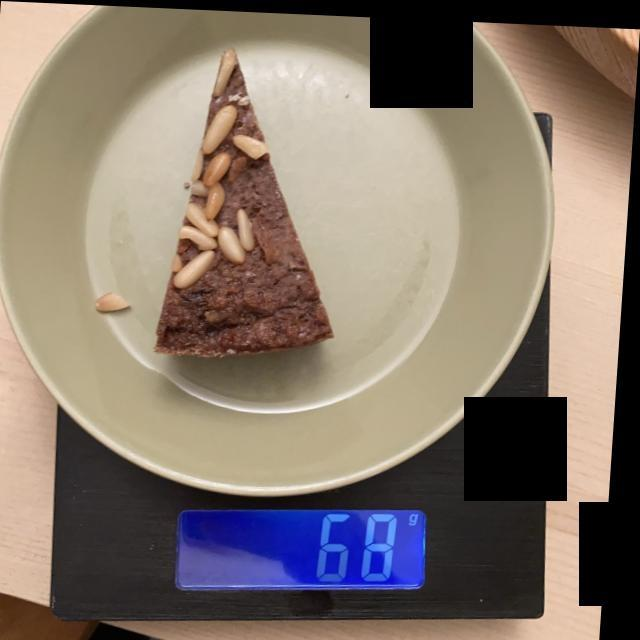nuts: (182, 59, 270, 288)
